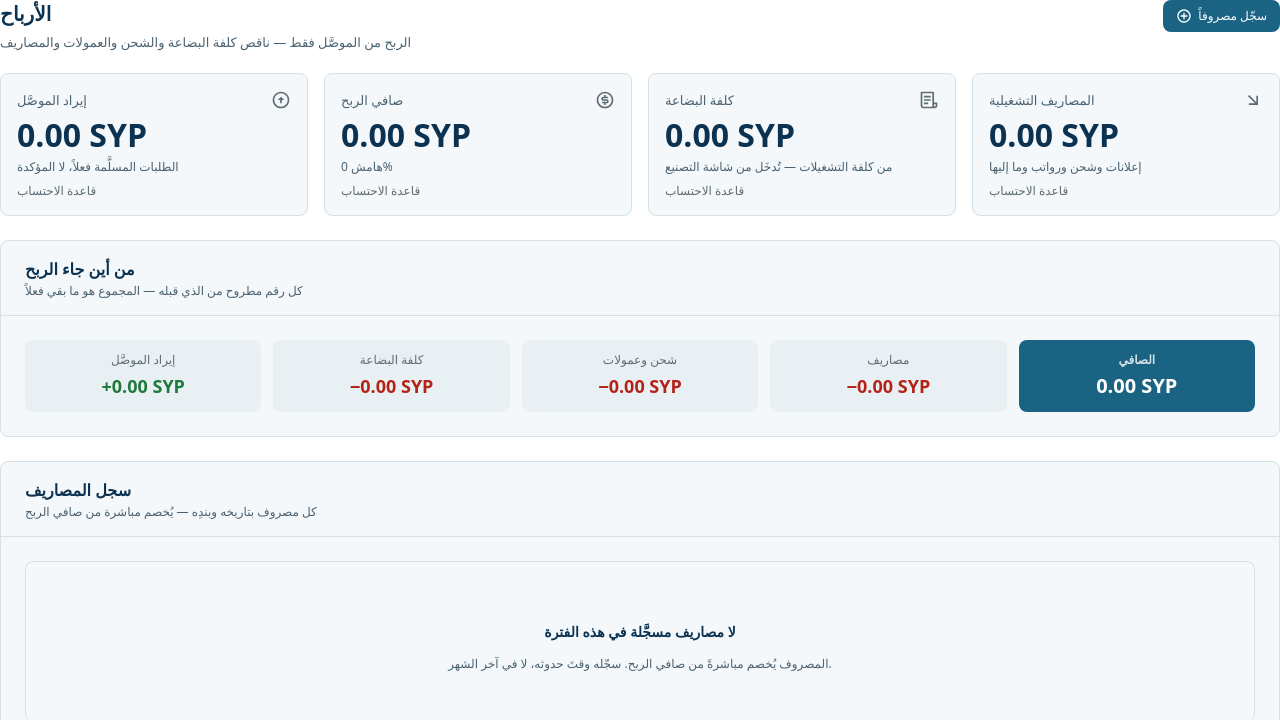
Test: the amount box opens empty and sends nothing when nothing was typed › and clears itself after a saved expense, so the next one starts from nothing
The width and height of the screenshot is (1280, 720).
Step 1. Click the button "سجّل مصروفاً" → [1222, 16], box [1163,0,1279,32]
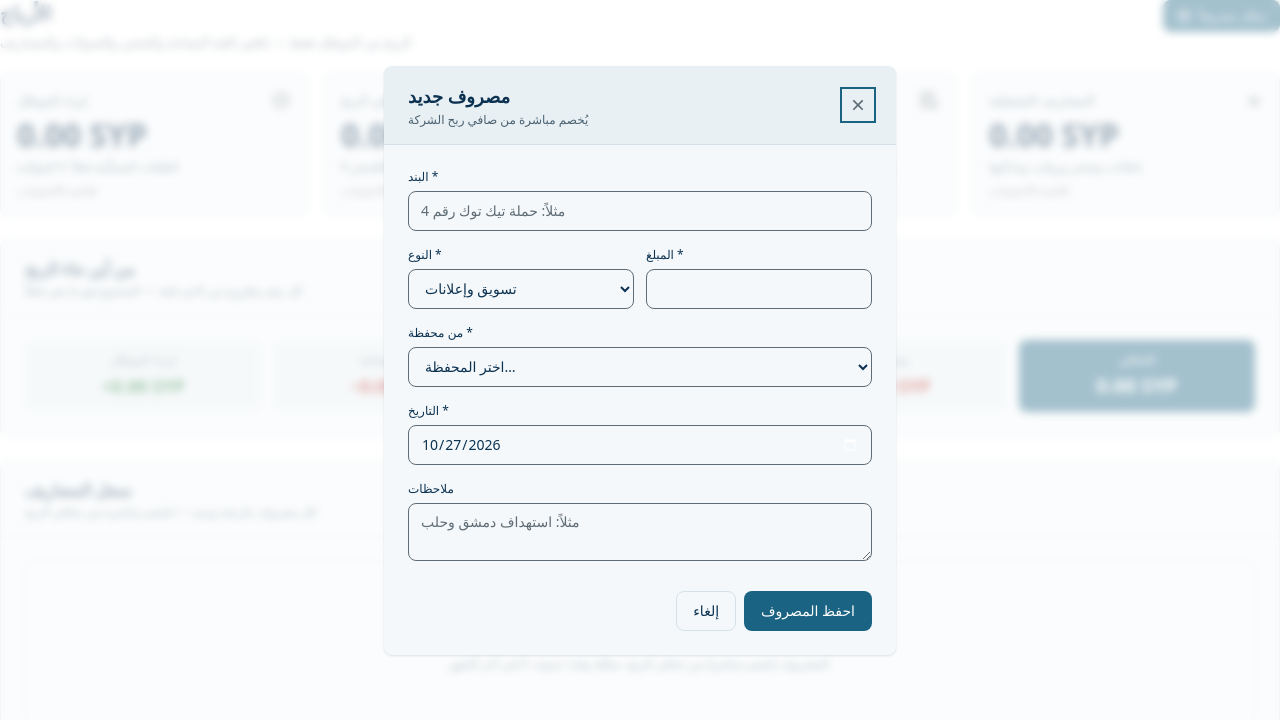
Check: the number field labelled "المبلغ *" is shown, box [646,268,872,308]
Step 2. Type "إعلان سبتمبر" into the field with placeholder "مثلاً: حملة تيك توك رقم 4" → [640, 210], box [408,190,872,230]
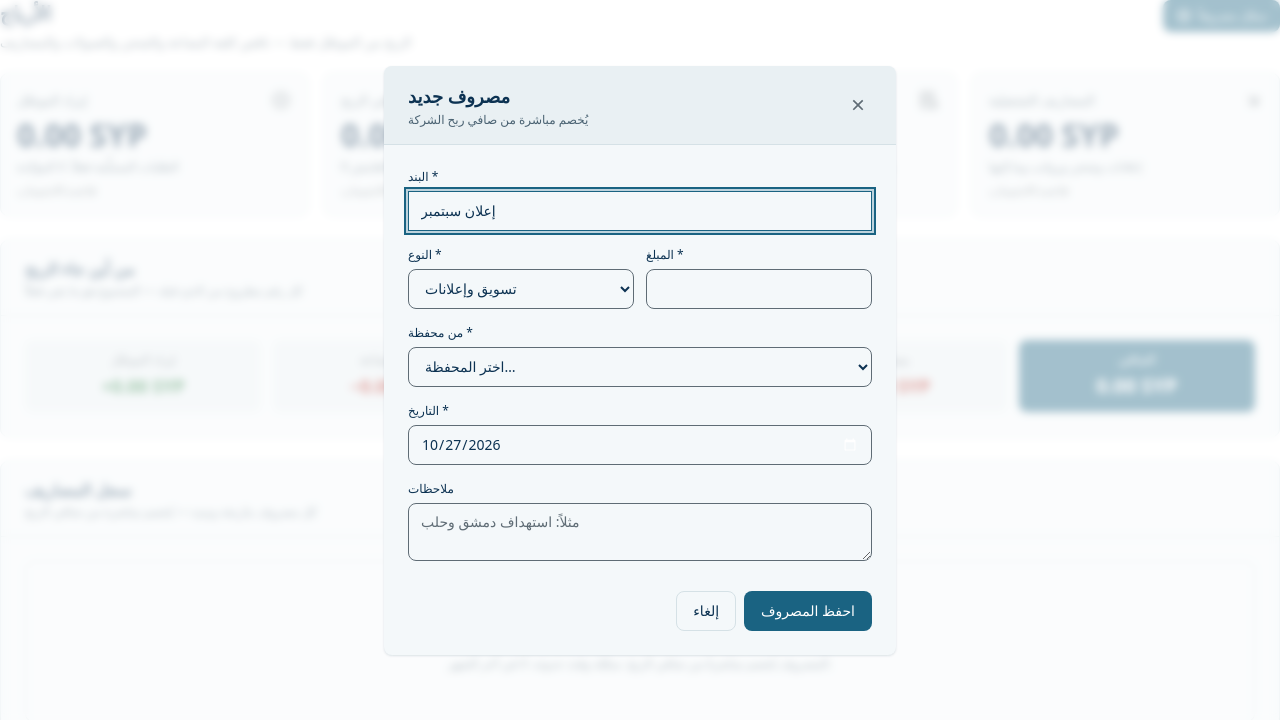
Step 3. Select "الصندوق (SYP)" in the dropdown showing "اختر المحفظة…" → [640, 366], box [408,346,872,386]
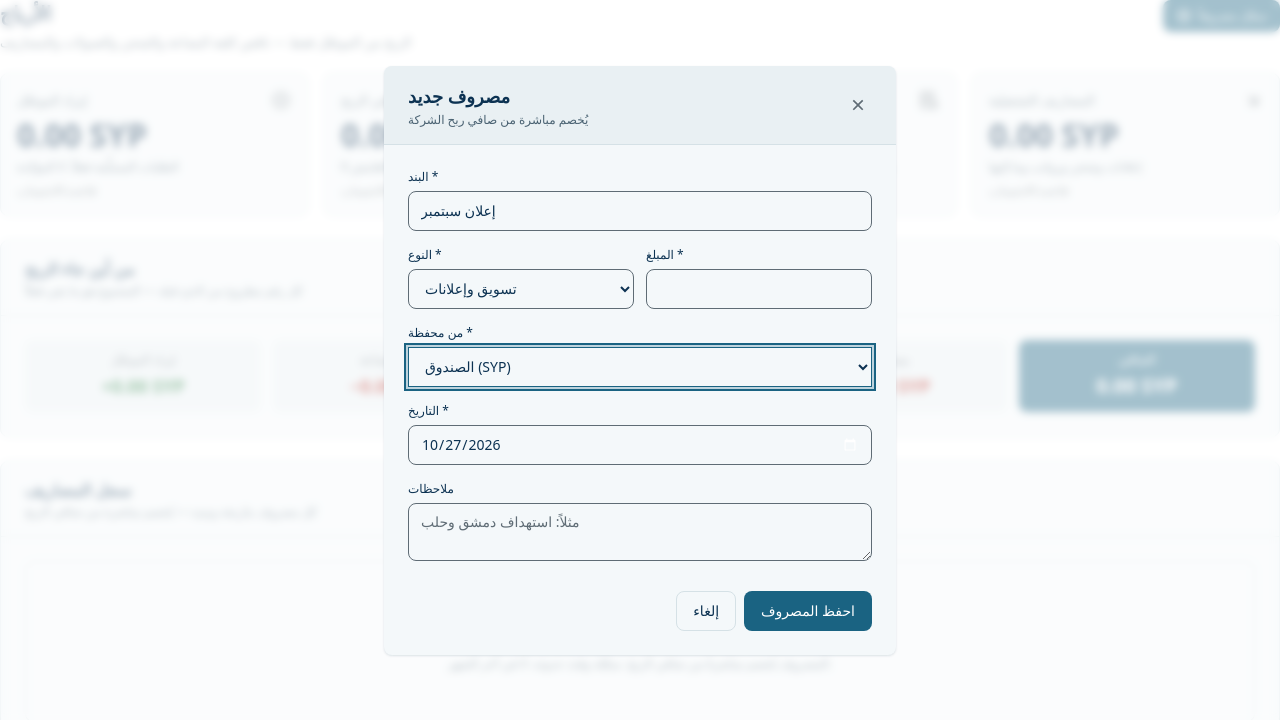
Step 4. Type "340" into the number field labelled "المبلغ *" → [759, 288], box [646,268,872,308]
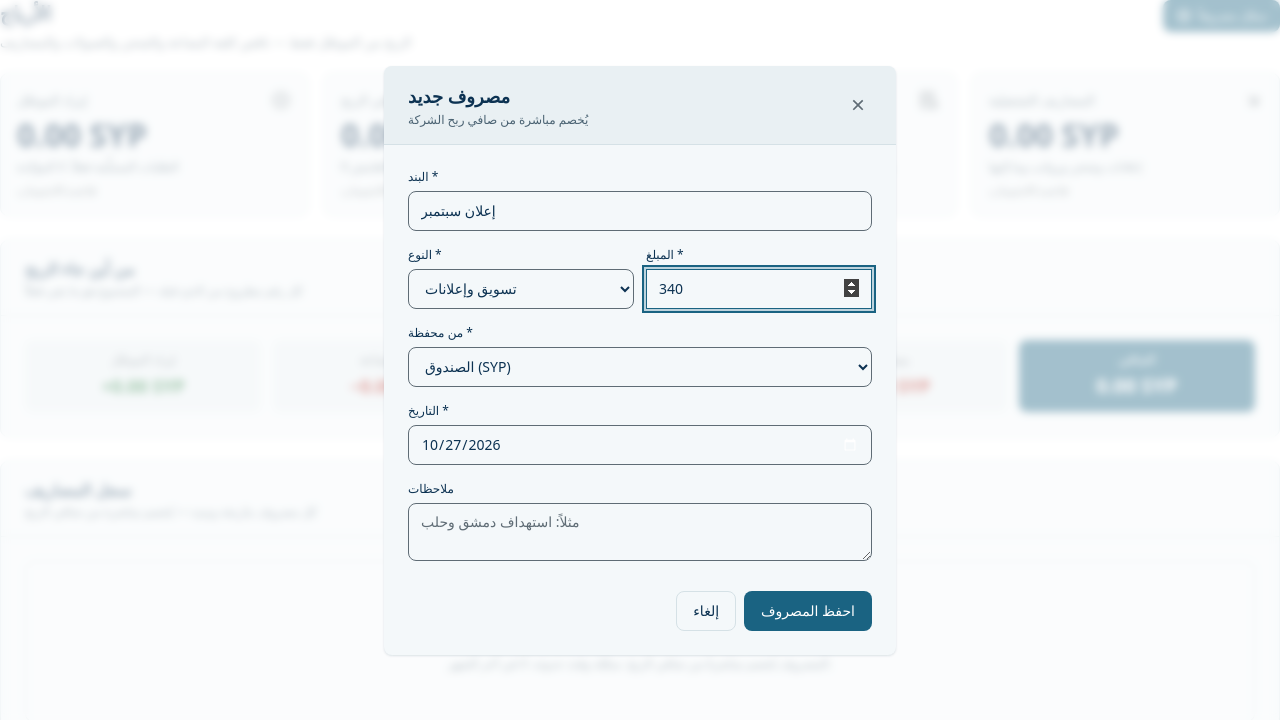
Step 5. Click the button "احفظ المصروف" → [808, 610], box [744,590,872,630]
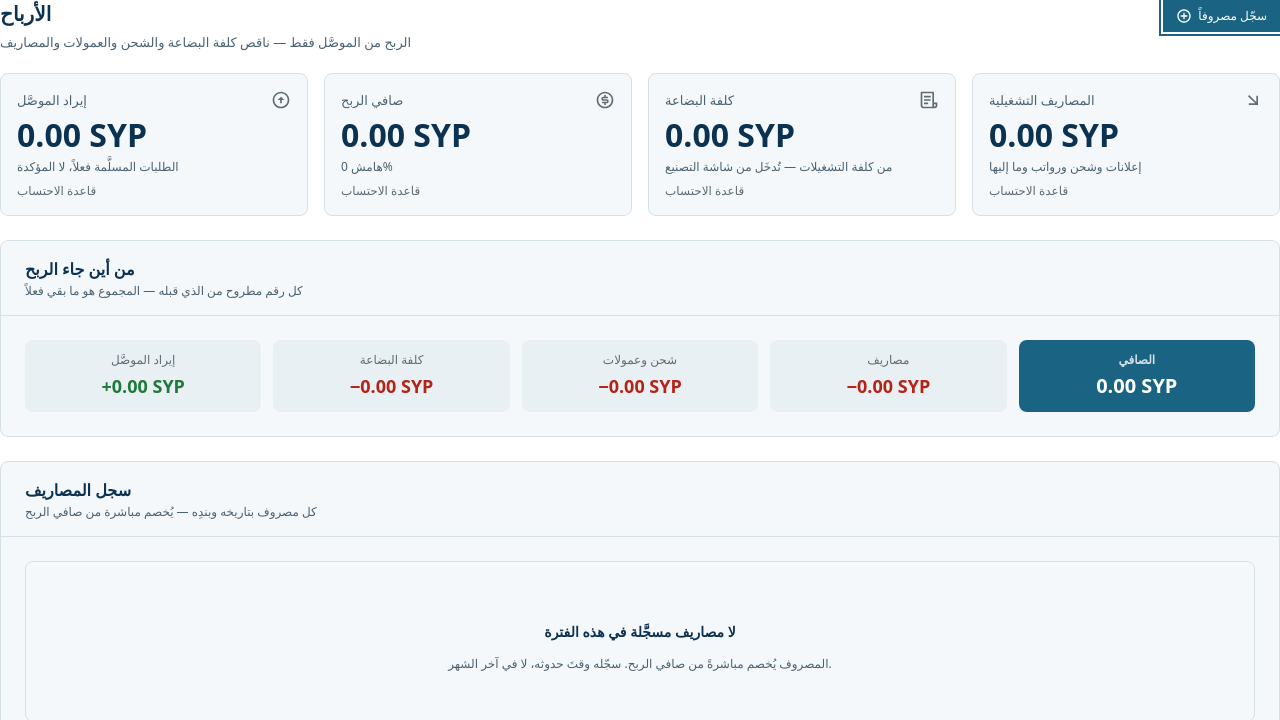
Step 6. Click the button "سجّل مصروفاً" → [1222, 16], box [1163,0,1279,32]
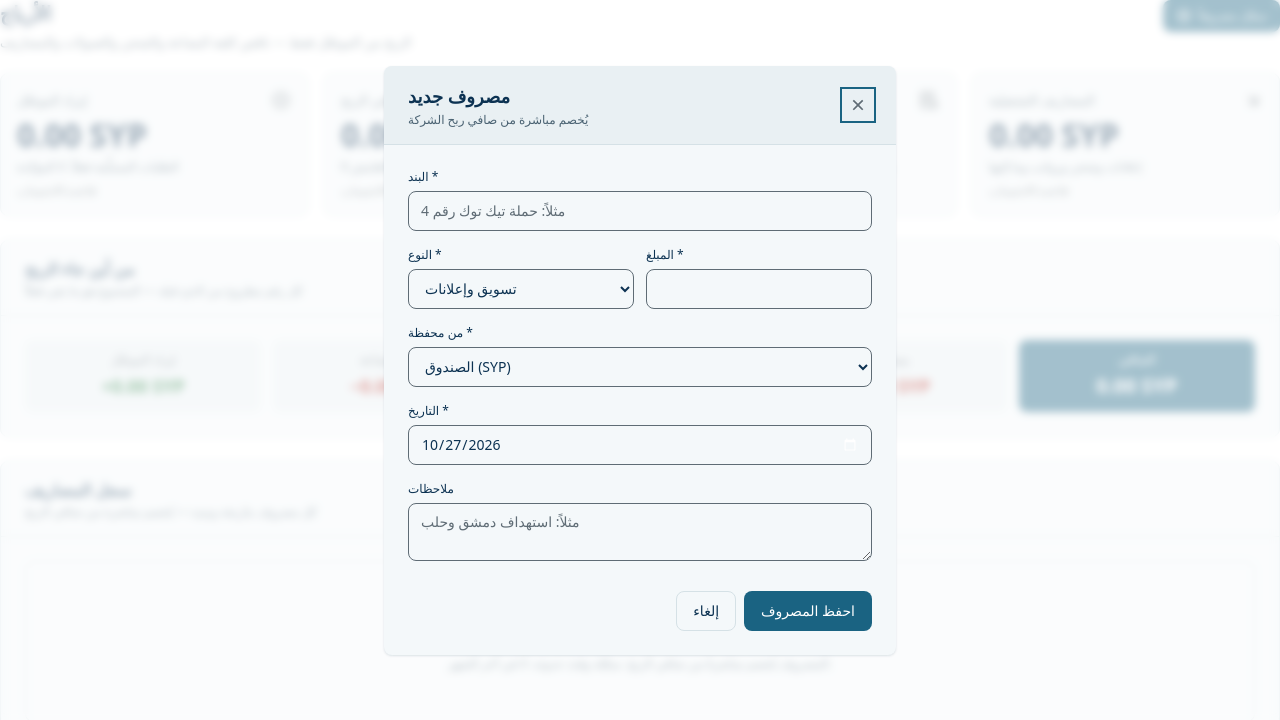
Check: the number field labelled "المبلغ *" is empty, box [646,268,872,308]
Check: the number field labelled "المبلغ *" is shown, box [646,268,872,308]
